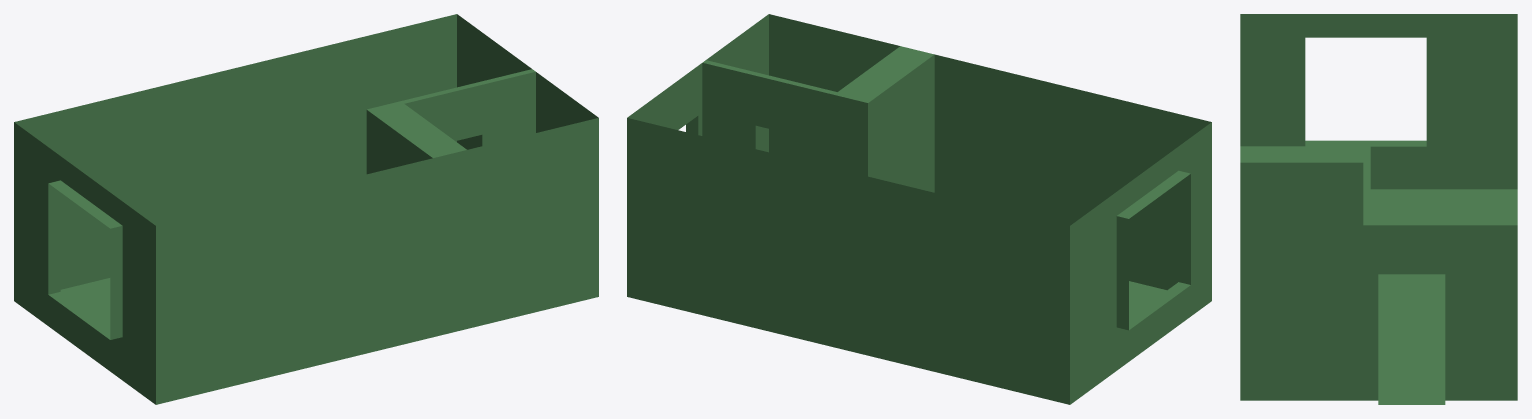
Rendered from Rooms_A_1_3_29.FBX.
3 renders of one model, left to right at view 1: azimuth 30°, elevation 25°; view 2: azimuth 150°, elevation 25°; view 3: azimuth 270°, elevation 25°, orthographic. The views are drawn at different scales.
Parts seen in each view (by area): view 1: Rooms_A_1_3_29; view 2: Rooms_A_1_3_29; view 3: Rooms_A_1_3_29.
Boxes of the visible parts, x1=… form: Rooms_A_1_3_29: x1=14, y1=14, x2=598, y2=404; Rooms_A_1_3_29: x1=627, y1=14, x2=1211, y2=404; Rooms_A_1_3_29: x1=1240, y1=14, x2=1517, y2=404.
Bounding box in the file's own units: 7.65 × 2.8 × 4.02.
